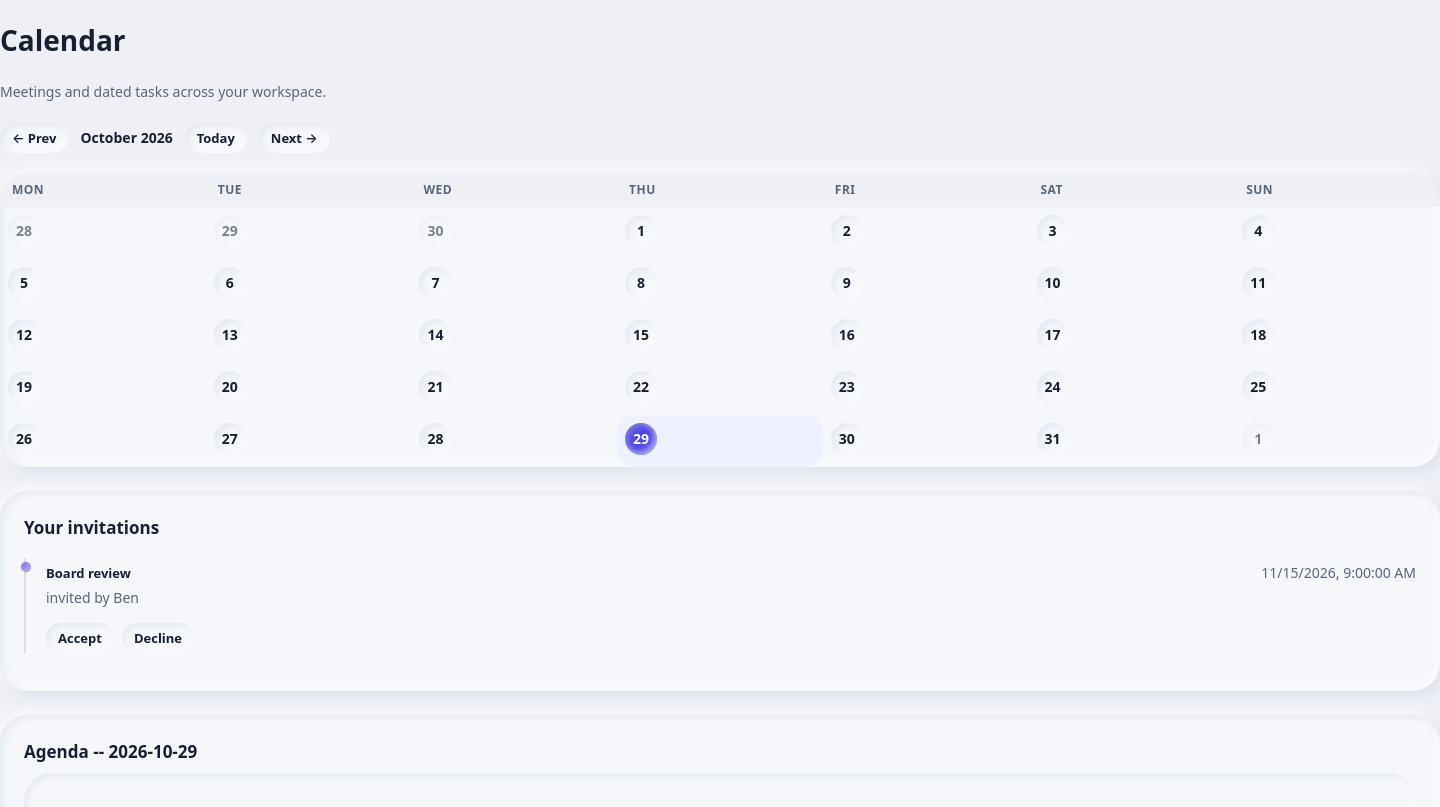
Scenario: Calendar page › renders the month grid with weekday headers
Expected: the column heading "Mon" is shown, [0,173,206,207]
Expected: the column heading "Tue" is shown, [206,173,411,207]
Click the button with aria-label "Next month": point(294, 138) [259,123,330,153]
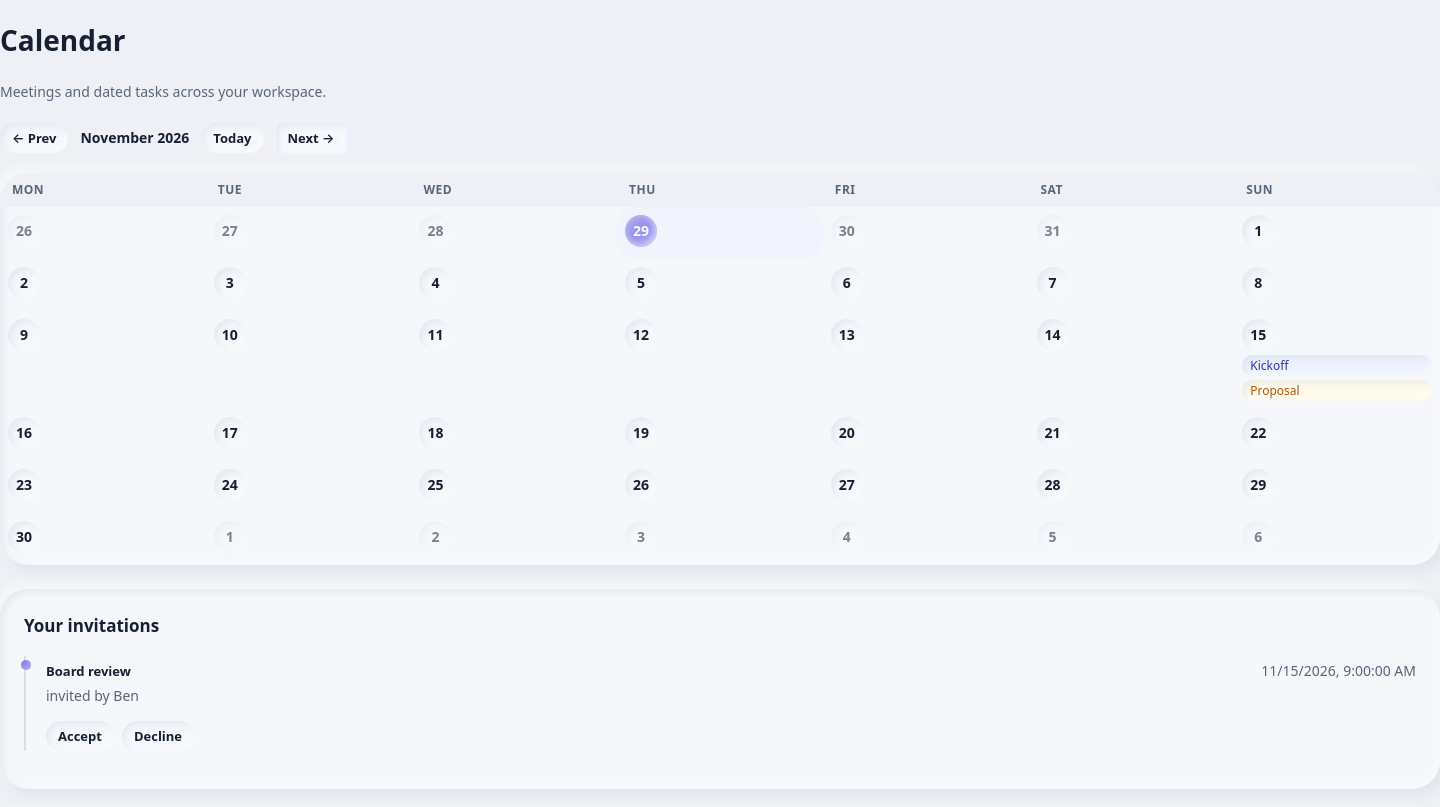
Expected: the button titled "Kickoff" is shown, [1242,355,1432,376]
Expected: the button titled "Proposal" is shown, [1242,380,1432,401]
